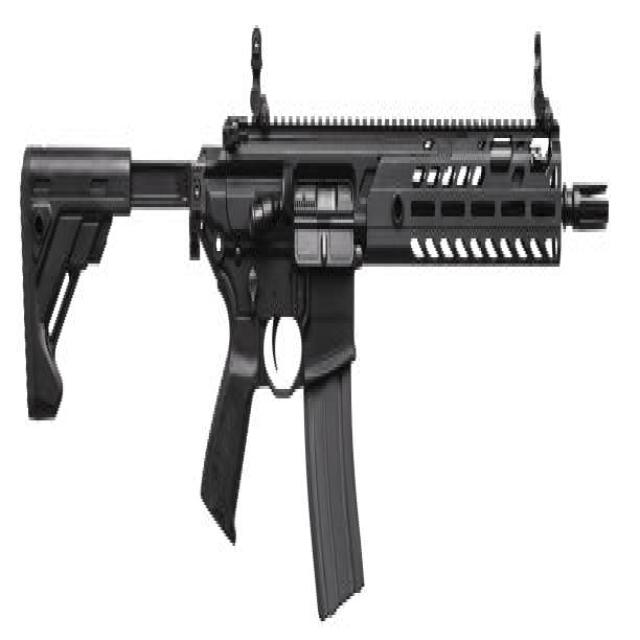rifle: (18, 20, 611, 632)
